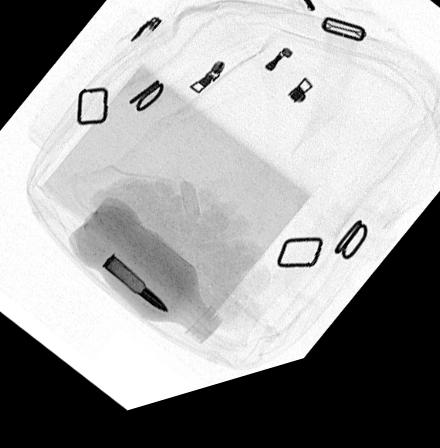Bullet: (99, 258, 166, 321)
